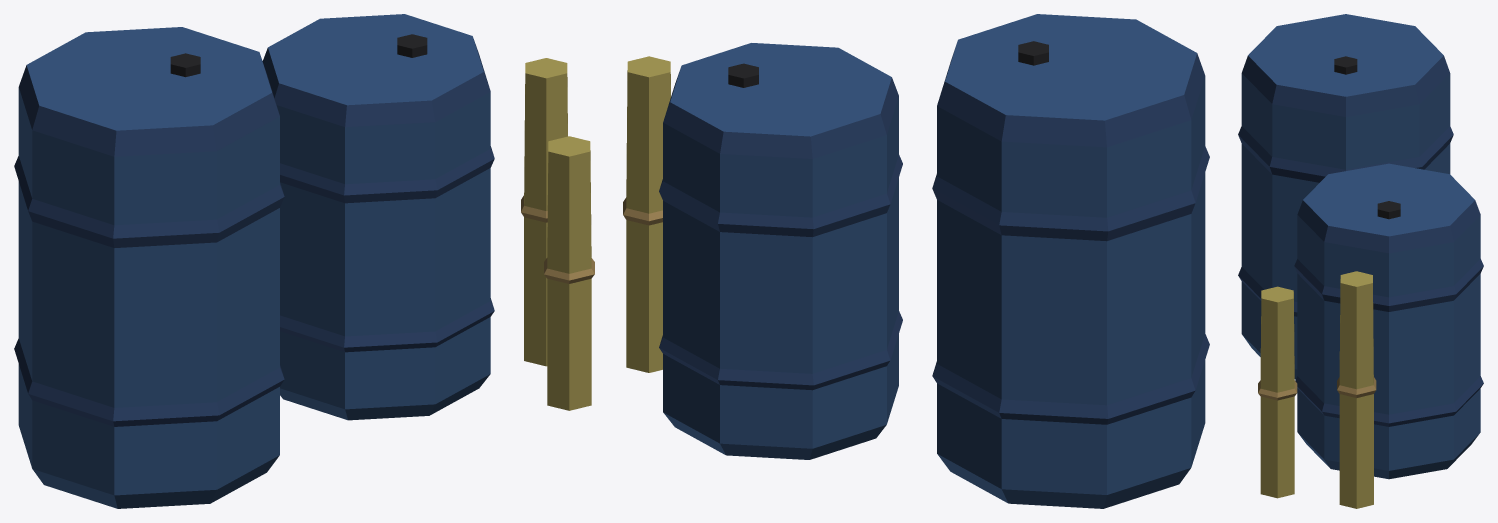
Rendered from S2_water_barrels_a.glb.
The picture shows the model from 3 angles, left to right: view 1: azimuth 30°, elevation 25°; view 2: azimuth 150°, elevation 25°; view 3: azimuth 270°, elevation 25°; orthographic projection. The views are drawn at different scales.
Visible parts, largest first — view 1: S2_water_barrels_a; view 2: S2_water_barrels_a; view 3: S2_water_barrels_a.
Part boxes in pixels (left/top/right/bottom): S2_water_barrels_a: left=14, top=14, right=594, bottom=508; S2_water_barrels_a: left=623, top=14, right=1209, bottom=508; S2_water_barrels_a: left=1238, top=14, right=1483, bottom=508.
Bounding box in the file's own units: 1.33 × 0.9 × 0.6678.
